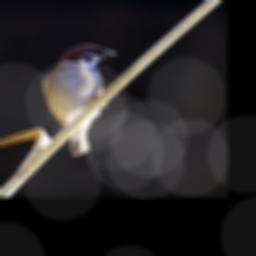Sparrow: (40, 43, 119, 156)
